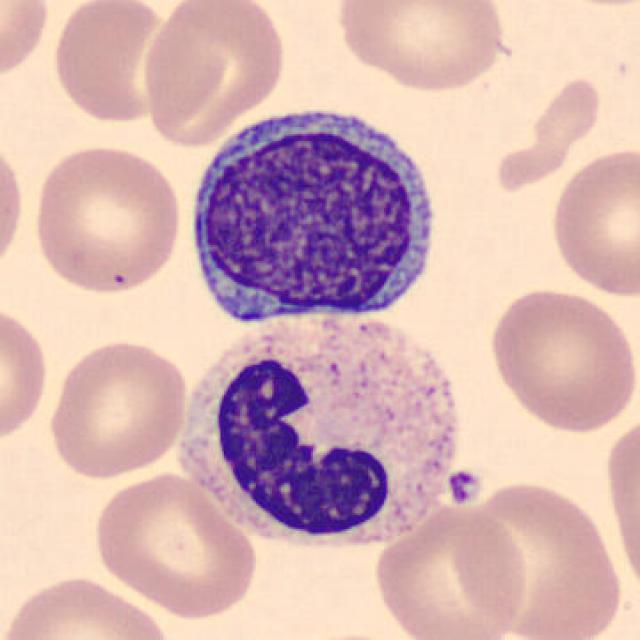Lymphocyte: (181, 92, 450, 338)
Neutrophil: (163, 305, 473, 562)
Platelets: (444, 467, 482, 506)
RBC: (448, 476, 628, 640), (89, 469, 261, 621), (28, 139, 185, 298), (482, 284, 636, 435), (369, 500, 531, 640), (138, 0, 290, 148), (44, 335, 192, 481), (48, 0, 181, 127), (332, 0, 511, 93), (546, 143, 638, 300), (0, 571, 176, 640), (601, 402, 640, 603), (0, 300, 52, 450), (0, 0, 53, 86), (0, 132, 28, 280), (281, 627, 425, 640), (537, 0, 640, 14)
